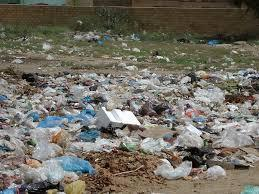Plastic bag: (7, 113, 96, 140), (33, 143, 90, 172), (185, 93, 242, 122), (174, 126, 211, 152), (216, 122, 256, 146), (153, 164, 200, 180), (100, 136, 144, 152), (140, 131, 170, 152), (202, 158, 232, 178), (62, 177, 96, 194)
